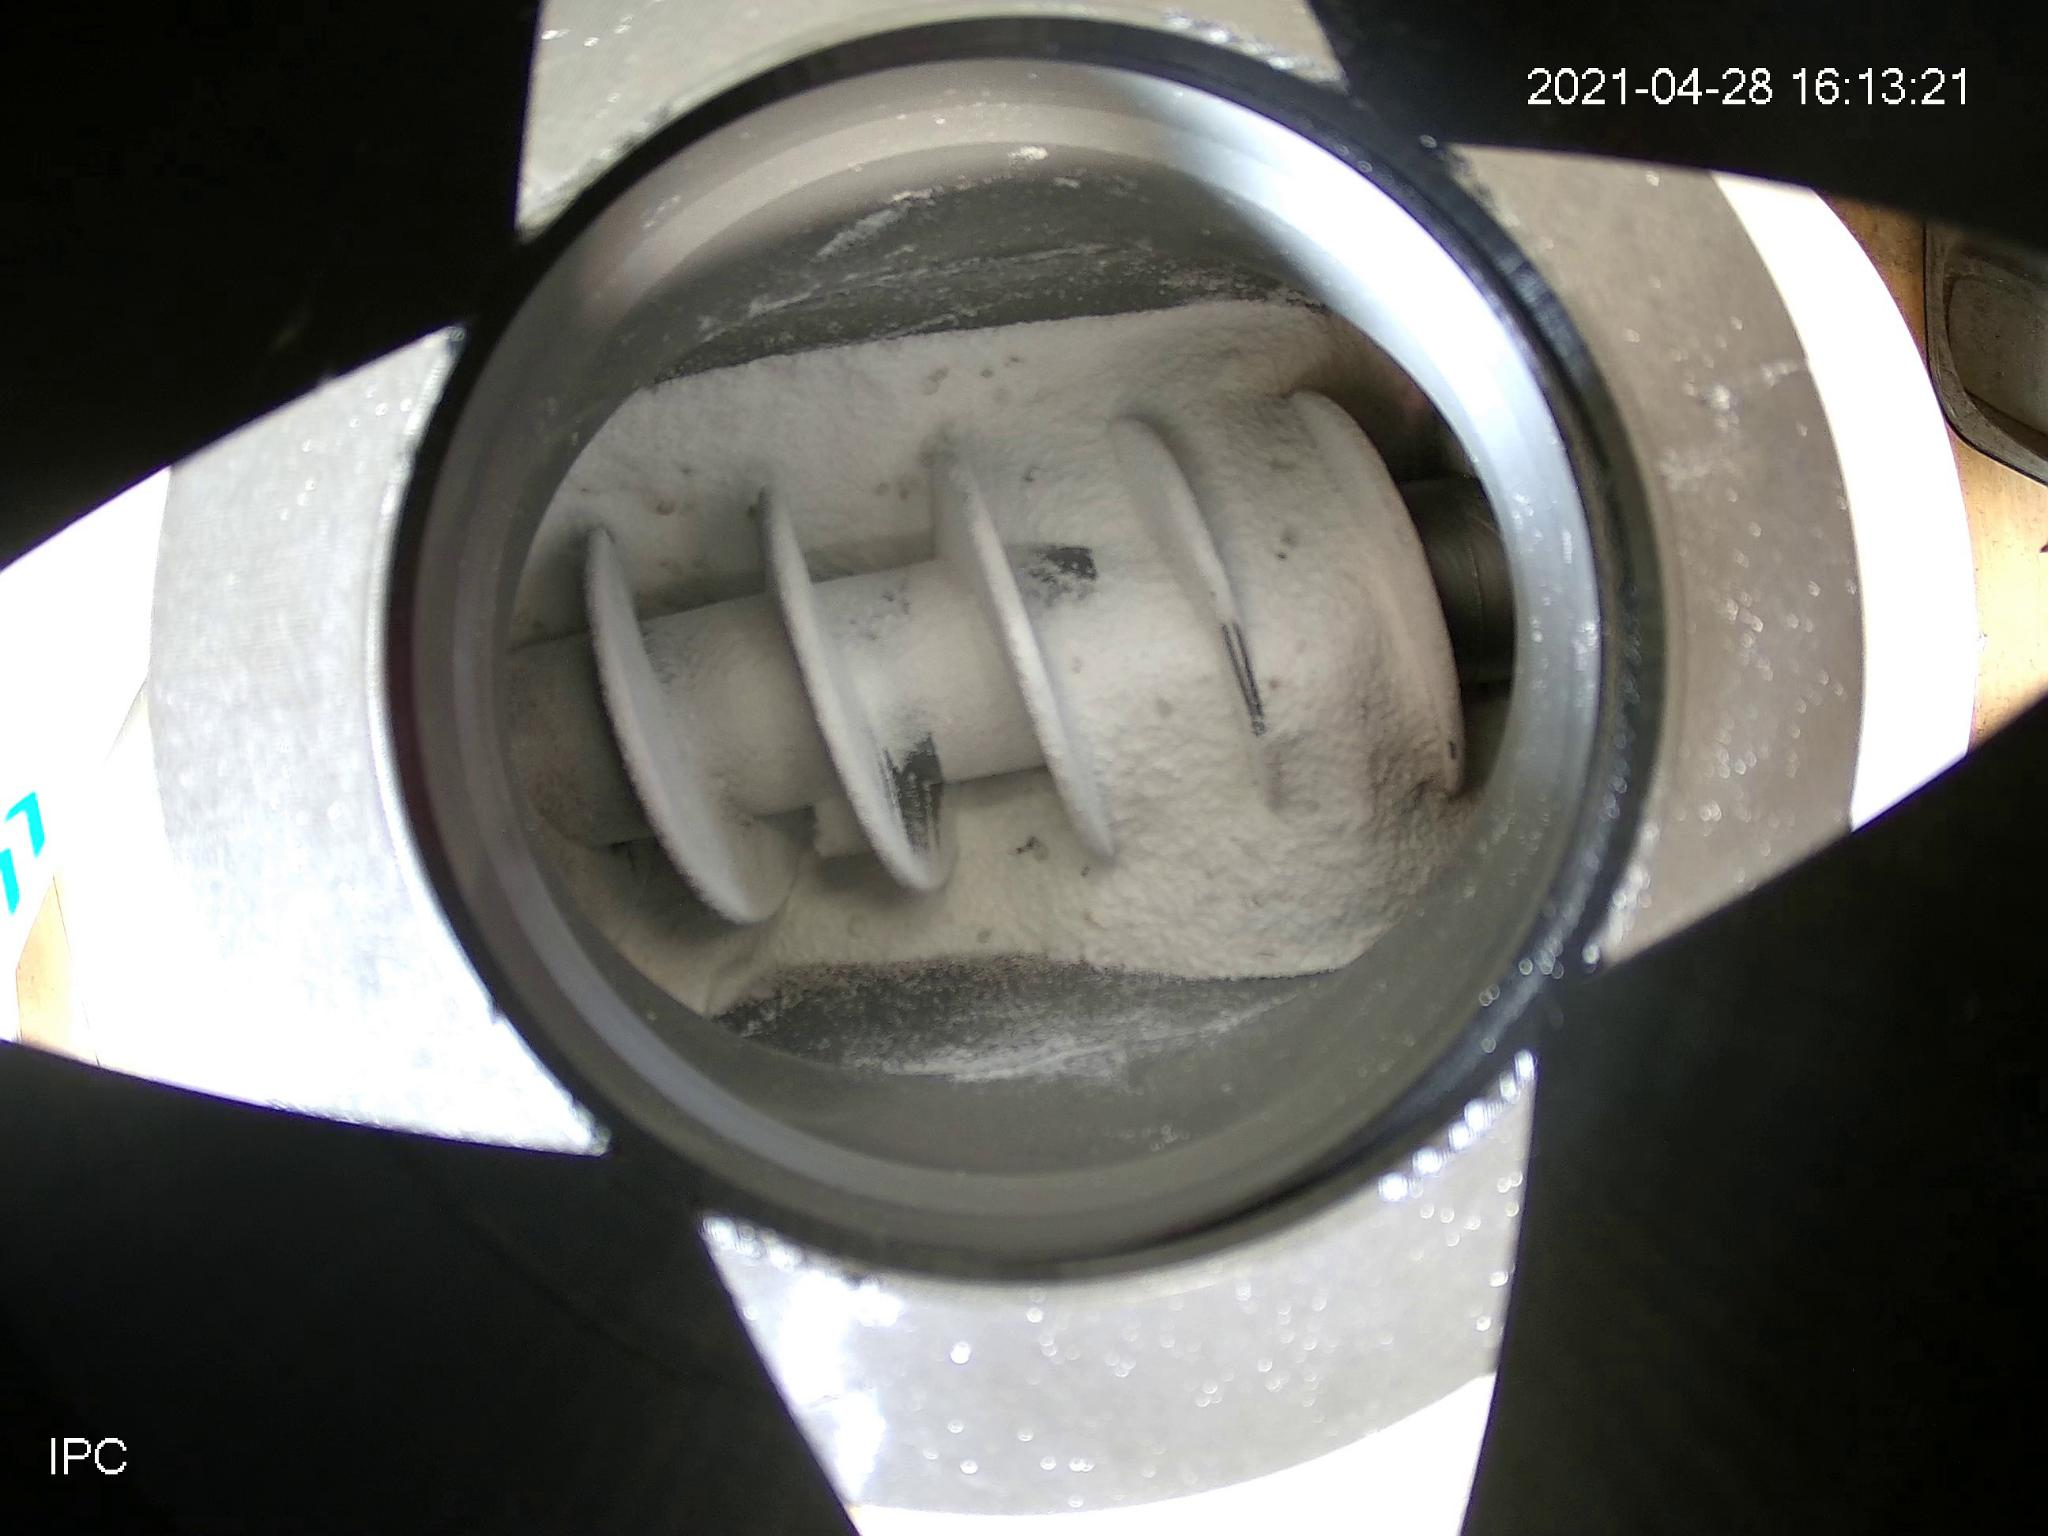stone: (1016, 834, 1047, 857), (926, 368, 945, 390), (1153, 699, 1174, 713), (977, 928, 987, 944), (658, 502, 669, 511), (1269, 461, 1292, 465), (877, 482, 884, 492), (980, 371, 992, 373), (682, 470, 689, 471)
